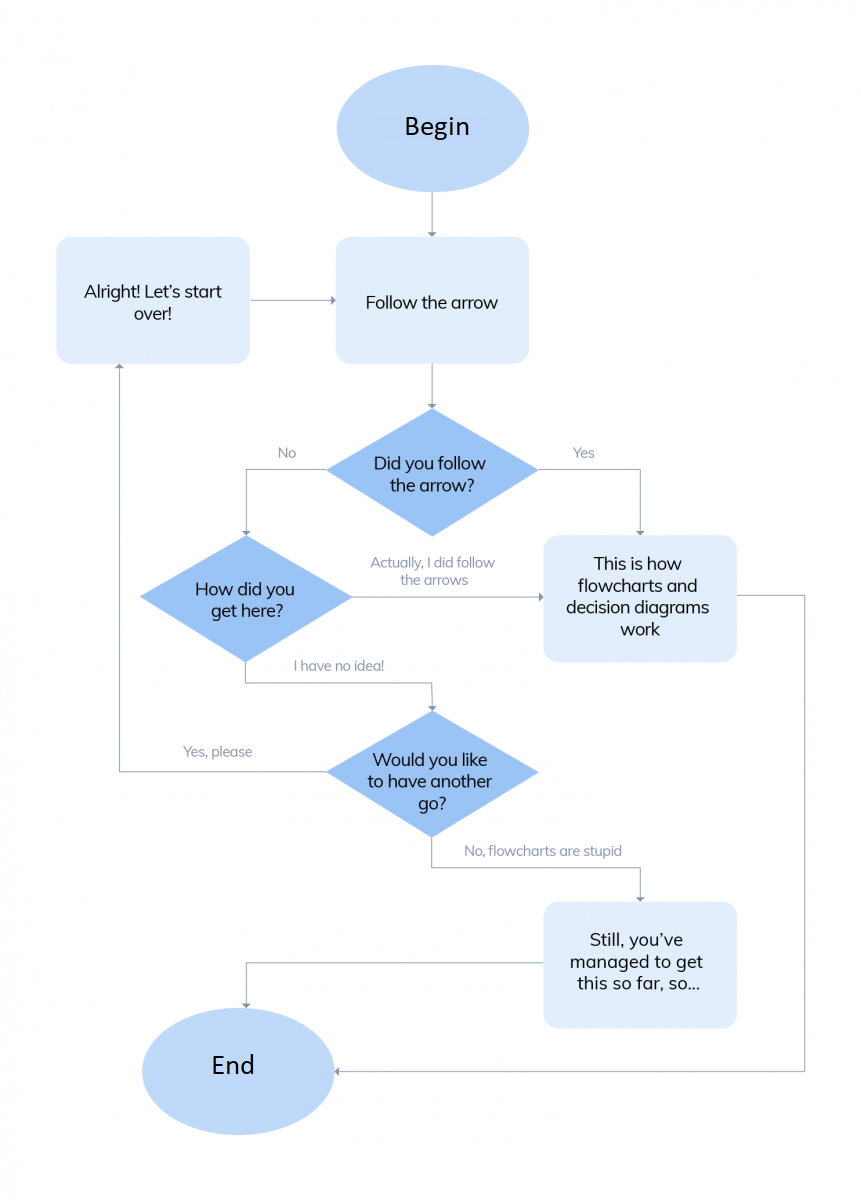arrow: (328, 589, 813, 1082), (108, 358, 340, 778), (239, 954, 548, 1013), (428, 827, 646, 907), (239, 656, 446, 711), (531, 463, 653, 542), (239, 465, 340, 543), (346, 589, 546, 607), (248, 289, 346, 305), (422, 187, 444, 243), (422, 360, 442, 414)
decision: (320, 407, 540, 540), (322, 703, 542, 836), (131, 536, 360, 663)
process: (537, 896, 744, 1034), (330, 231, 535, 369), (50, 231, 257, 363), (537, 533, 744, 665)
terminator: (330, 62, 537, 198), (135, 1003, 340, 1138)
text: (557, 553, 719, 640), (360, 745, 499, 818), (566, 927, 708, 996), (79, 274, 224, 323), (368, 447, 491, 496), (190, 574, 300, 622), (368, 551, 497, 585), (360, 289, 500, 313), (460, 842, 624, 862), (399, 107, 471, 143), (288, 653, 395, 674), (177, 740, 260, 763), (206, 1049, 260, 1078), (568, 440, 597, 469), (271, 442, 302, 469)
